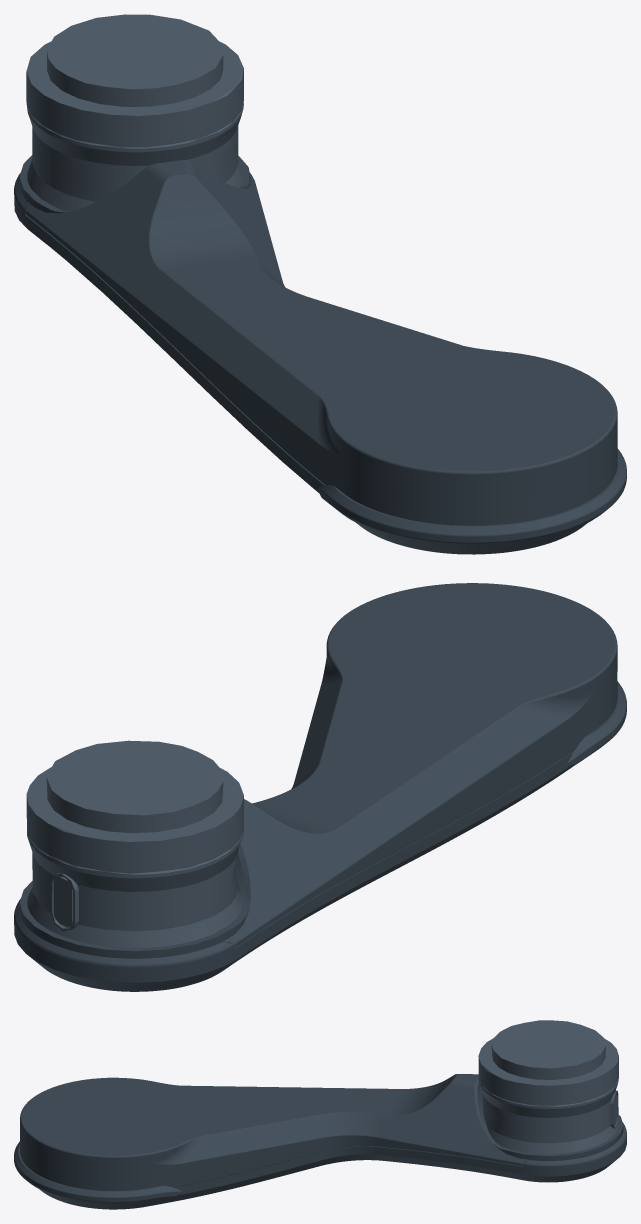
Rendered from hl_knee.obj.
3 views of the same model, one above another, from view 1: azimuth 30°, elevation 25°; view 2: azimuth 150°, elevation 25°; view 3: azimuth 270°, elevation 25° (orthographic). The views are drawn at different scales.
Visible parts, largest first — view 1: 移动面10, 圆角16, 圆角1, 切除-拉伸49; view 2: 移动面10, 圆角16, 切除-拉伸49, 圆角1; view 3: 移动面10, 圆角1, 圆角16, 切除-拉伸49.
Part boxes in pixels (left/top/right/bottom): 移动面10: left=19, top=155, right=617, bottom=525; 圆角16: left=26, top=14, right=243, bottom=147; 圆角1: left=14, top=172, right=626, bottom=554; 切除-拉伸49: left=26, top=102, right=243, bottom=211; 移动面10: left=19, top=583, right=617, bottom=958; 圆角16: left=26, top=740, right=243, bottom=873; 切除-拉伸49: left=27, top=827, right=243, bottom=947; 圆角1: left=14, top=681, right=626, bottom=991; 移动面10: left=20, top=1074, right=623, bottom=1190; 圆角1: left=14, top=1122, right=626, bottom=1209; 圆角16: left=478, top=1020, right=618, bottom=1105; 切除-拉伸49: left=478, top=1076, right=618, bottom=1154.
Size of the model in its own units: 0.115 by 0.0831 by 0.3525.
